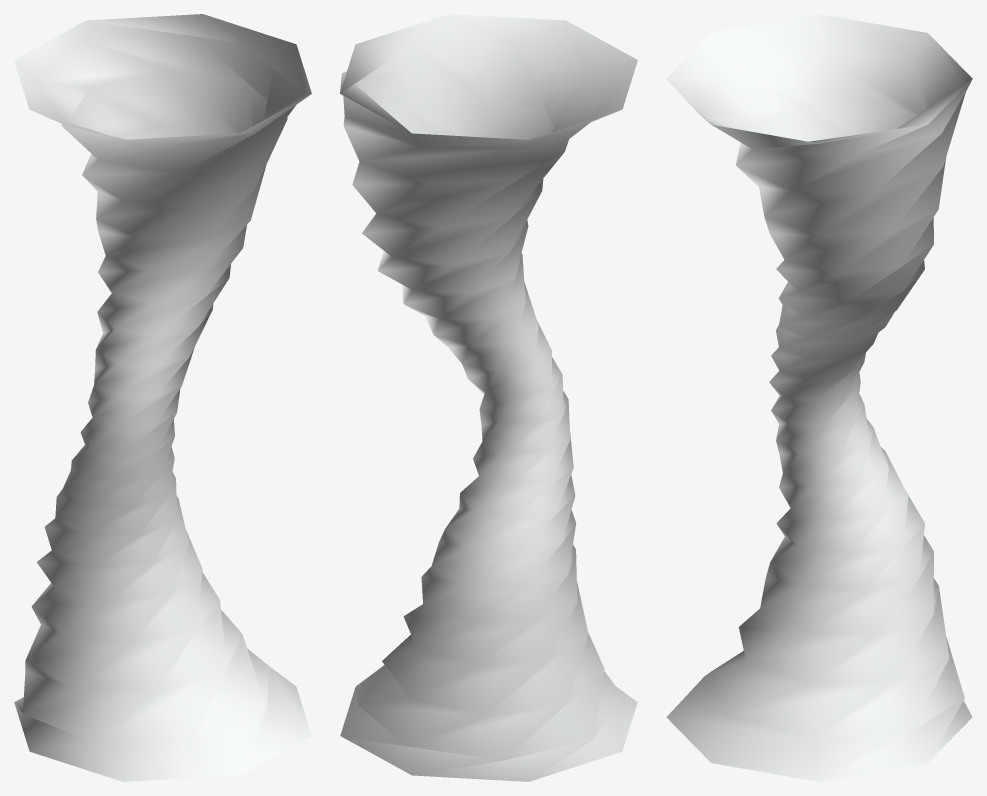
The model's file is exm_nv_longjuan004.FBX.
The picture shows the model from 3 angles, left to right: view 1: azimuth 30°, elevation 25°; view 2: azimuth 150°, elevation 25°; view 3: azimuth 270°, elevation 25°; orthographic projection.
Parts seen in each view (by area): view 1: exm_nv_longjuan004; view 2: exm_nv_longjuan004; view 3: exm_nv_longjuan004.
Part boxes in pixels (<box>): exm_nv_longjuan004: <box>14,14,311,781</box>; exm_nv_longjuan004: <box>340,14,637,781</box>; exm_nv_longjuan004: <box>666,14,972,781</box>.
Size of the model in its own units: 241 by 553 by 241.
